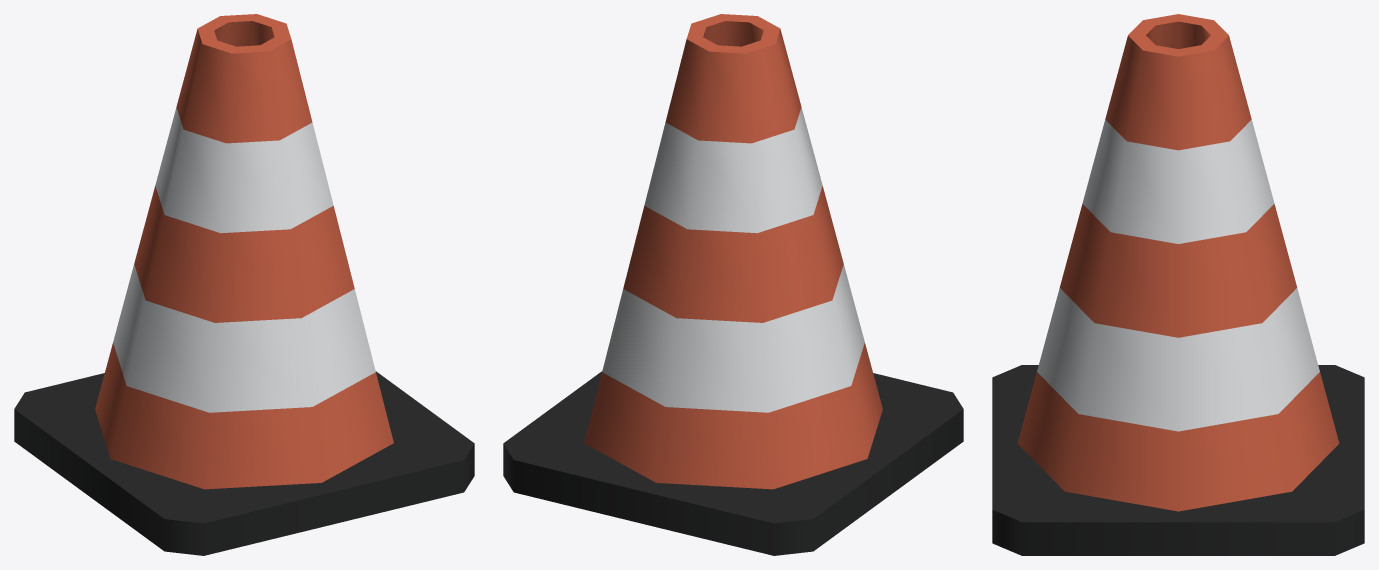
The model's file is Traffic_Cone_002.glb.
The picture shows the model from 3 angles, left to right: view 1: azimuth 30°, elevation 25°; view 2: azimuth 150°, elevation 25°; view 3: azimuth 270°, elevation 25°; orthographic projection. The views are drawn at different scales.
Parts seen in each view (by area): view 1: Traffic Cone.002; view 2: Traffic Cone.002; view 3: Traffic Cone.002.
Part boxes in pixels (x1,y1,x2,y2): Traffic Cone.002: (14, 14, 474, 555); Traffic Cone.002: (503, 14, 963, 555); Traffic Cone.002: (992, 14, 1364, 555).
Size of the model in its own units: 2 by 2.62 by 2.
Materials: 1 (1 with a texture image).
